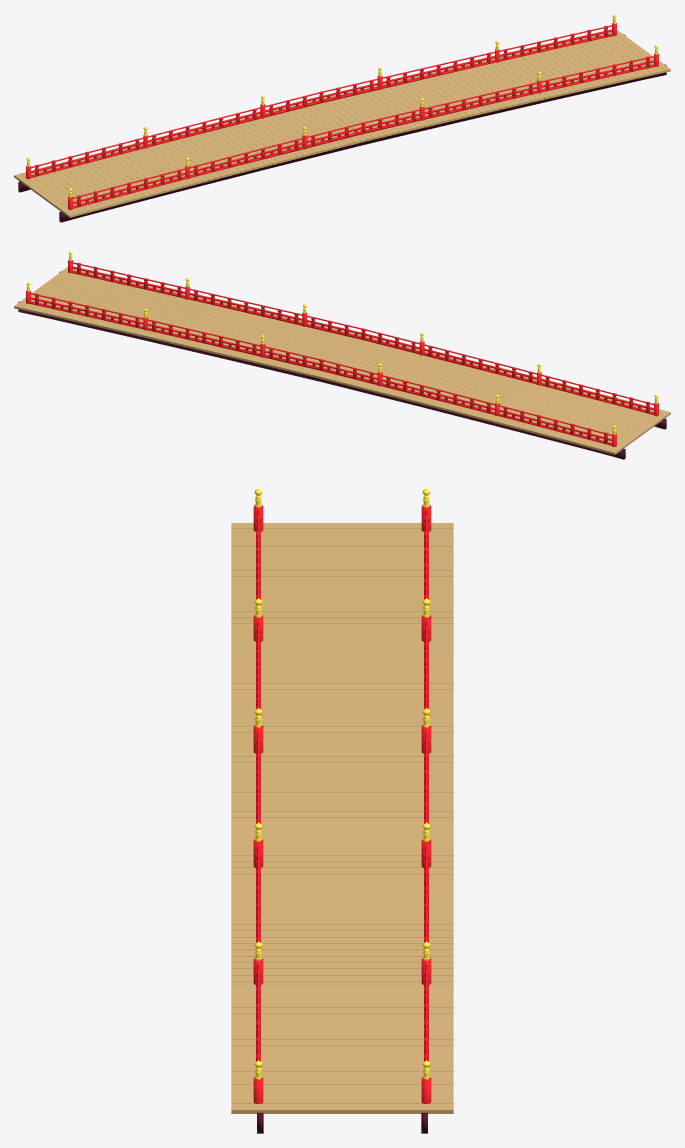
Rendered from 神社橋配布用test.glb.
3 views of the same model, one above another, from view 1: azimuth 30°, elevation 25°; view 2: azimuth 150°, elevation 25°; view 3: azimuth 270°, elevation 25° (orthographic). The views are drawn at different scales.
Parts seen in each view (by area): view 1: ベジエカーブ.001; view 2: ベジエカーブ.001; view 3: ベジエカーブ.001.
Part boxes in pixels (x1,y1,x2,y2): ベジエカーブ.001: (14,14,670,222); ベジエカーブ.001: (14,251,670,459); ベジエカーブ.001: (231,488,453,1133).
Size of the model in its own units: 51.3 by 2.96 by 8.17.
